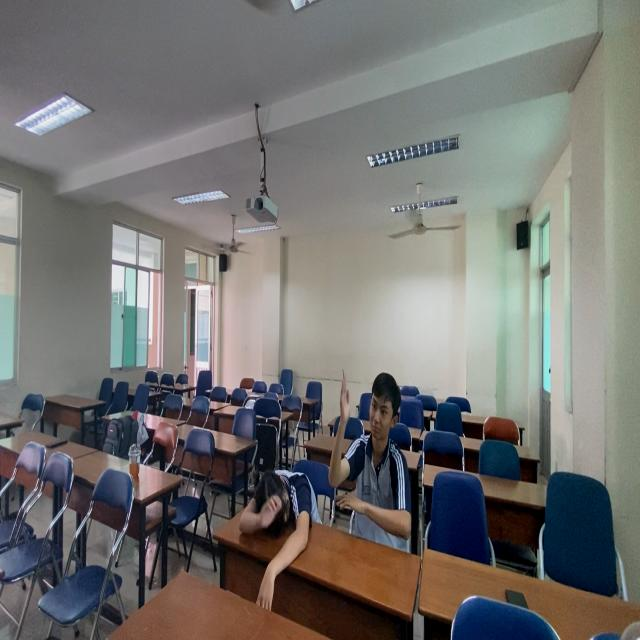raise_hand: (328, 373, 419, 542)
sleep: (236, 460, 317, 612)
